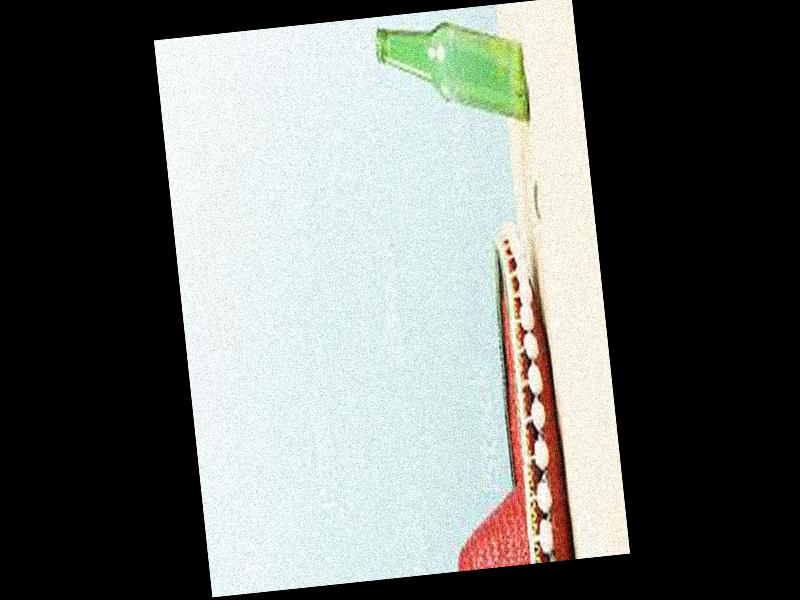Beer: (373, 16, 534, 139)
